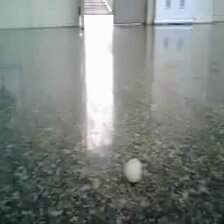w: (125, 158, 144, 183)
